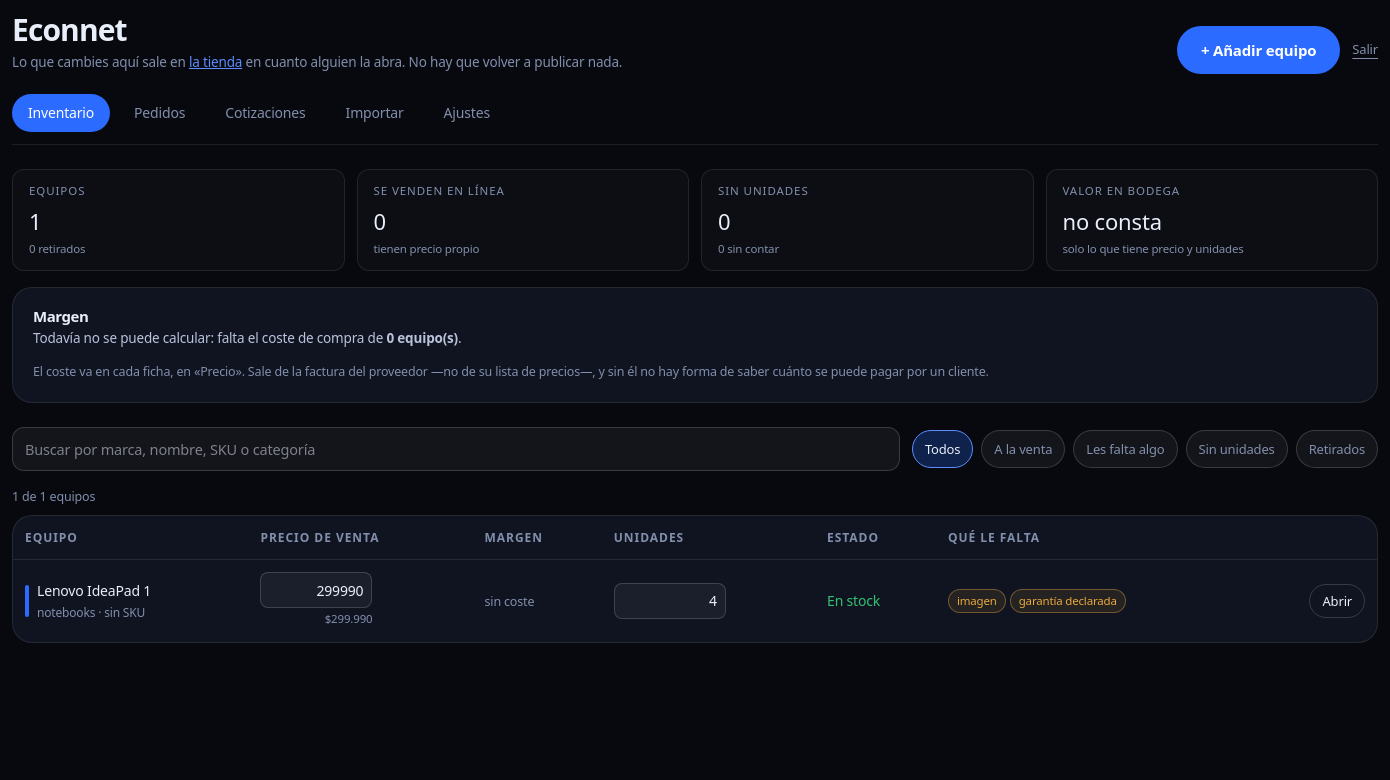
it: la tabla del inventario › un precio negativo no se manda: se devuelve el que había
The width and height of the screenshot is (1390, 780).
Clear the field named "Precio de Lenovo IdeaPad 1" at (316, 590), box [260, 572, 372, 608]
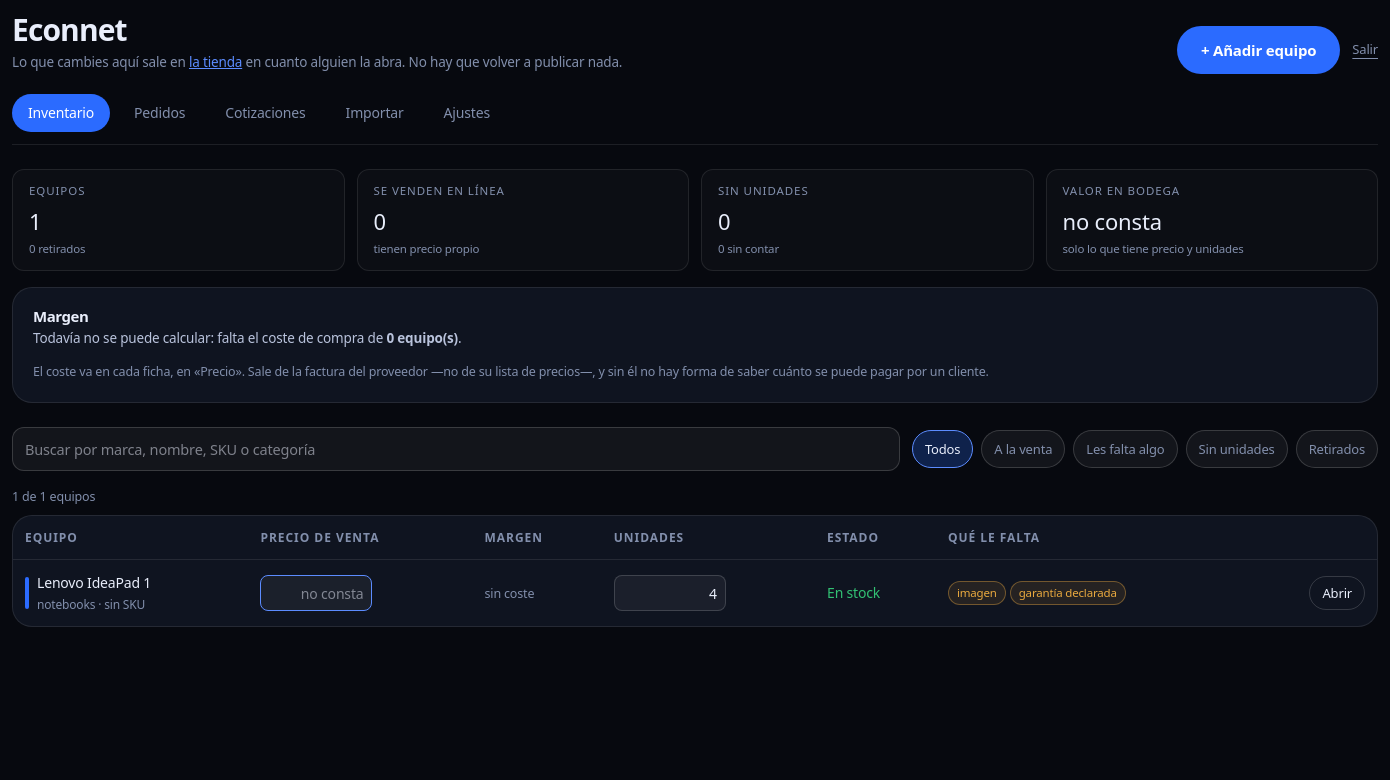
Type "-5" into the field named "Precio de Lenovo IdeaPad 1" at (316, 593), box [260, 575, 372, 611]
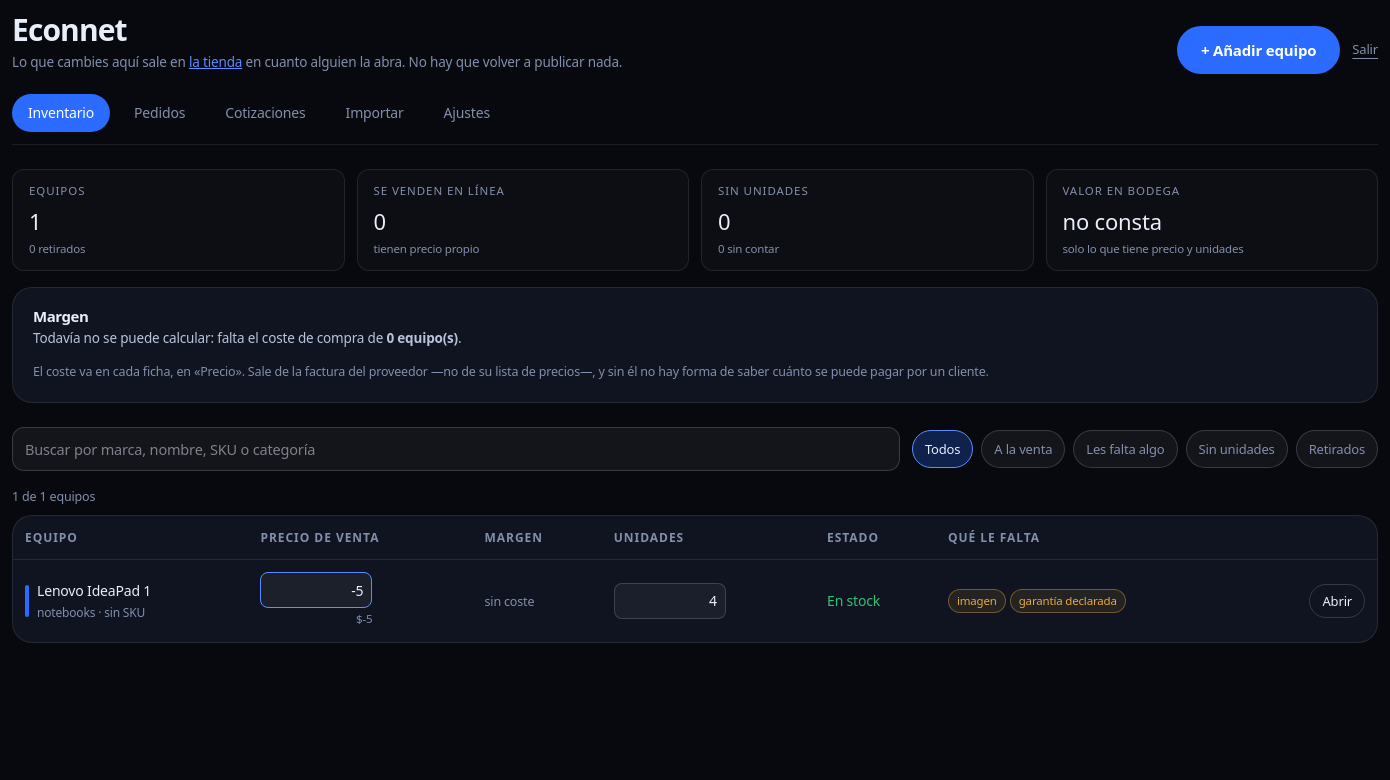
Press Tab
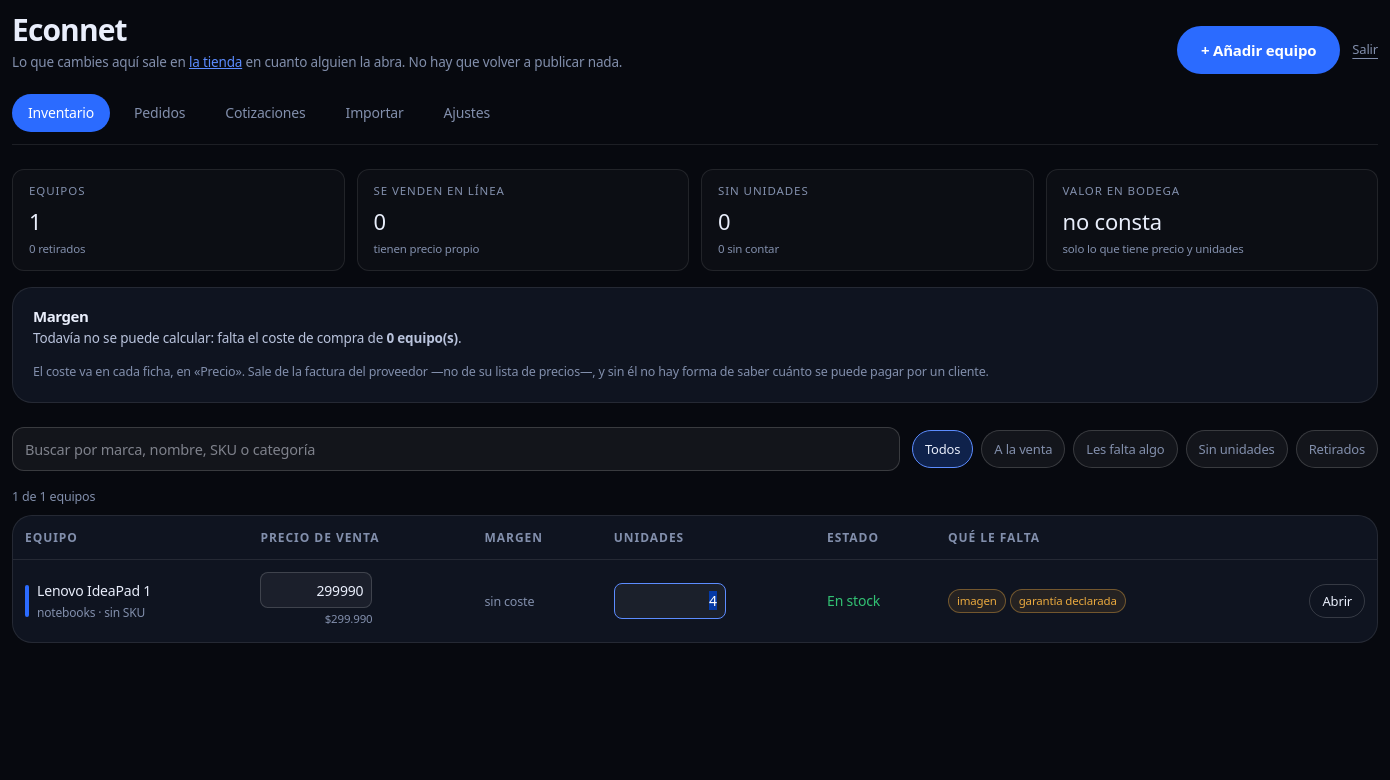
Now the field named "Precio de Lenovo IdeaPad 1" holds "299990", box [260, 572, 372, 608]
